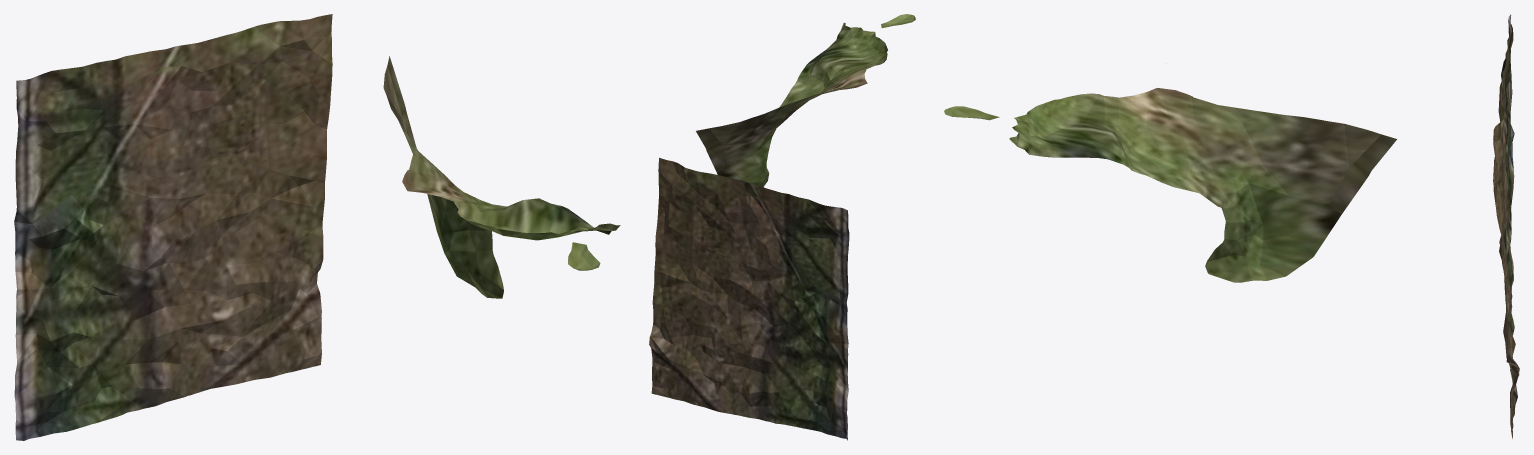
The model's file is tile_5_24_5_tex.obj.
The picture shows the model from 3 angles, left to right: view 1: azimuth 30°, elevation 25°; view 2: azimuth 150°, elevation 25°; view 3: azimuth 270°, elevation 25°; orthographic projection. The views are drawn at different scales.
Parts seen in each view (by area): view 1: obj_0; view 2: obj_0; view 3: obj_0.
Boxes of the visible parts, left/top/right/bottom form: obj_0: left=14, top=14, right=620, bottom=440; obj_0: left=649, top=14, right=915, bottom=440; obj_0: left=944, top=14, right=1519, bottom=438.
Size of the model in its own units: 5.01 by 5.64 by 9.74.
Materials: 1 (1 with a texture image).
